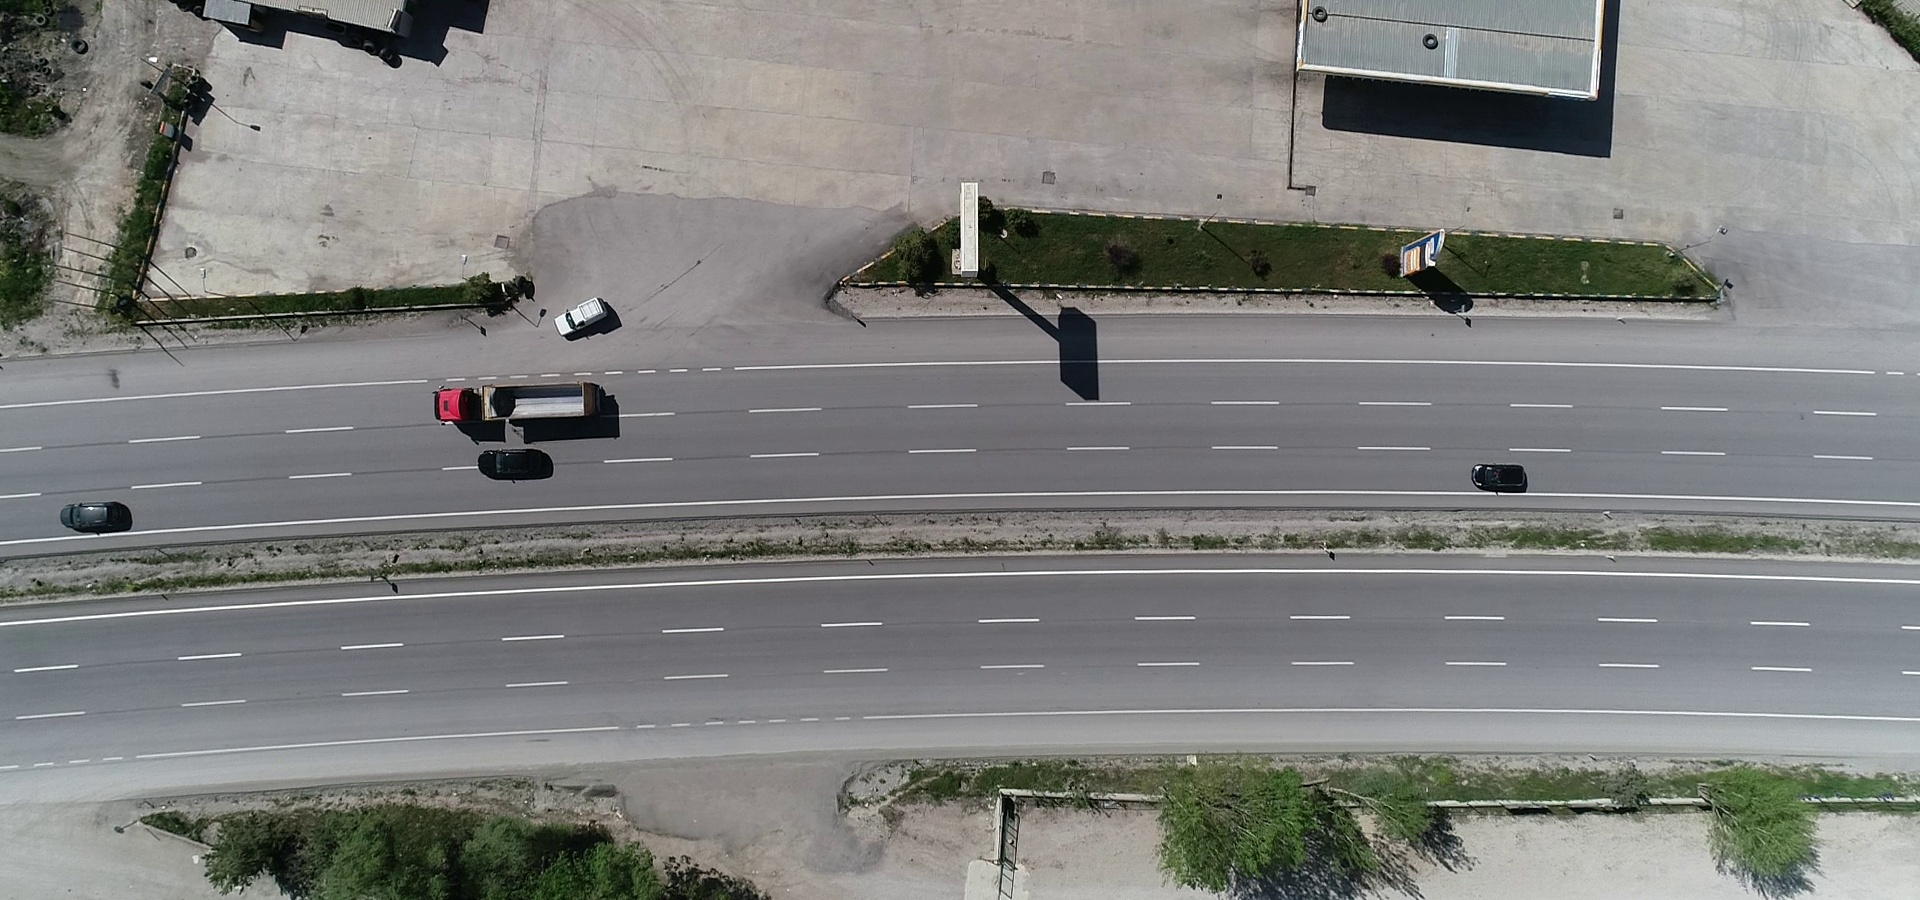arac: (432, 378, 612, 433), (55, 493, 146, 533), (476, 444, 557, 485), (550, 298, 628, 337), (1458, 458, 1540, 490)
